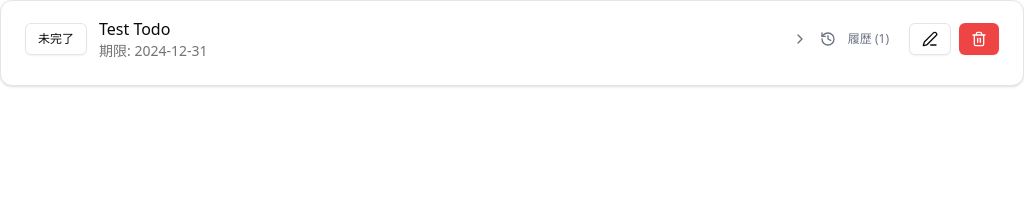
Test: TodoItem › shows audit logs when history button is clicked
The width and height of the screenshot is (1024, 209).
Click the button "履歴 (1)". click: click(840, 39)
box: [780,23,901,55]
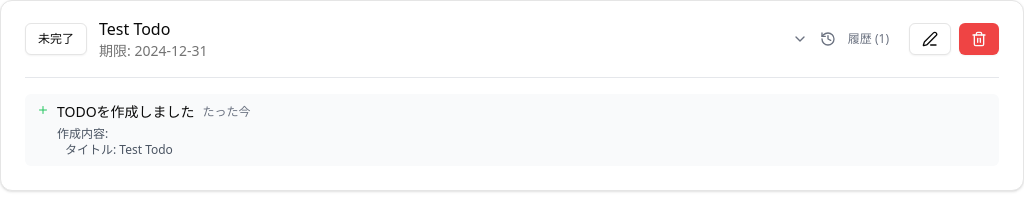
Result: the text "TODOを作成しました" is shown at [57,102,195,122]
